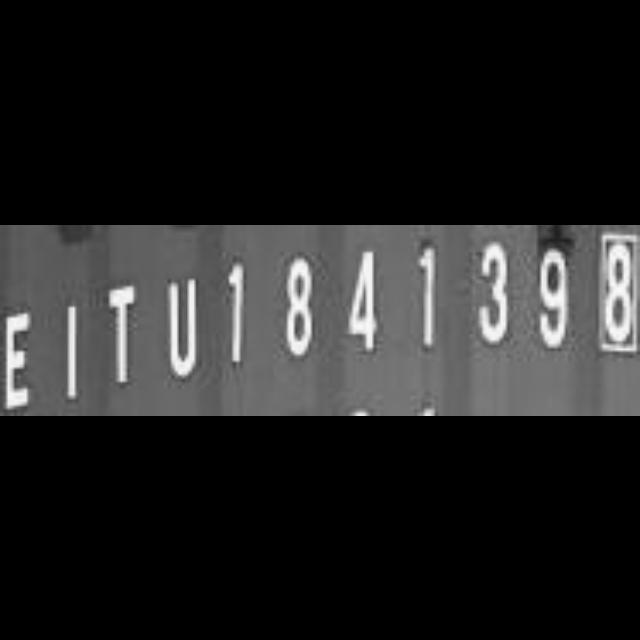1: (408, 234, 446, 356), (223, 248, 253, 372)
3: (468, 232, 520, 358)
4: (340, 242, 386, 361)
8: (278, 245, 322, 367), (602, 235, 636, 349)
9: (530, 238, 576, 359)
e: (0, 300, 40, 416)
i: (57, 289, 85, 415)
t: (100, 276, 146, 392)
u: (162, 269, 202, 387)
